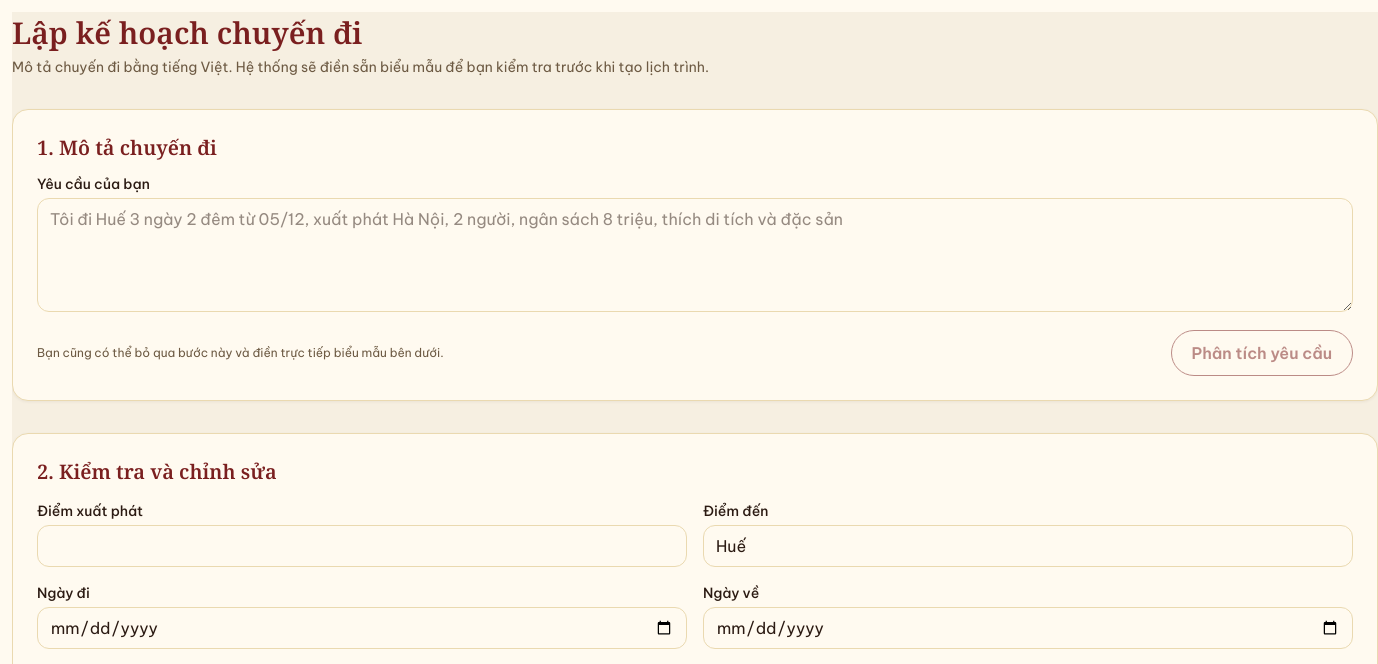
RequestPage › shows a parse failure without losing the typed text
The width and height of the screenshot is (1378, 664).
Type "Đi Huế" into the text box labelled "Yêu cầu của bạn" at (695, 255), box x1=37 y1=198 x2=1353 y2=312
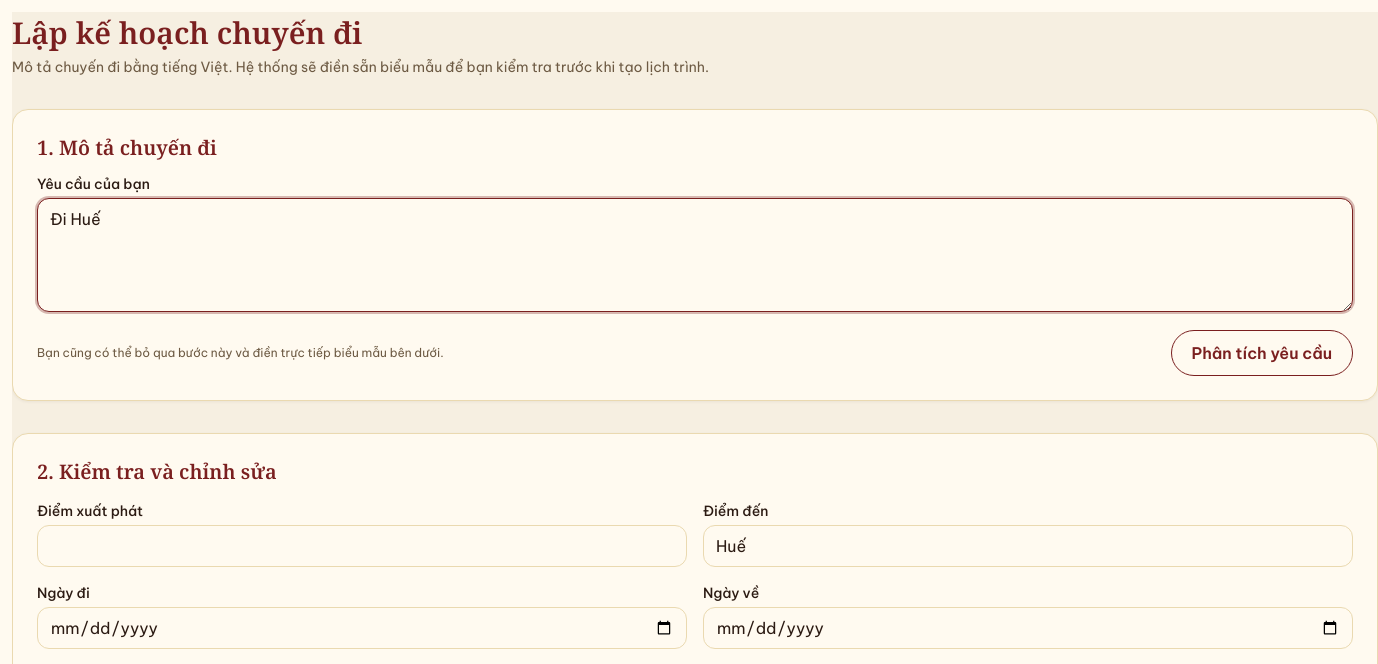
Click the button "Phân tích yêu cầu" at (1262, 353), box x1=1171 y1=330 x2=1353 y2=376
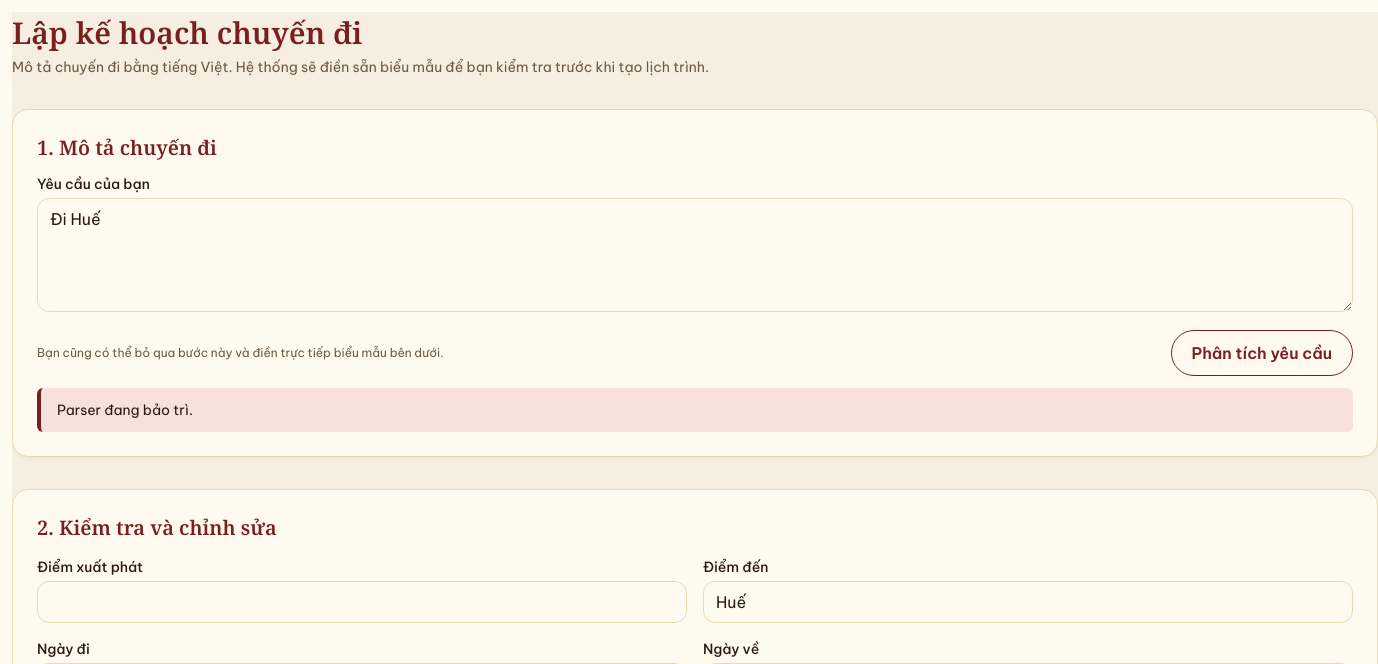
expect the message reads "Parser đang bảo trì.": met, box x1=57 y1=401 x2=193 y2=419
